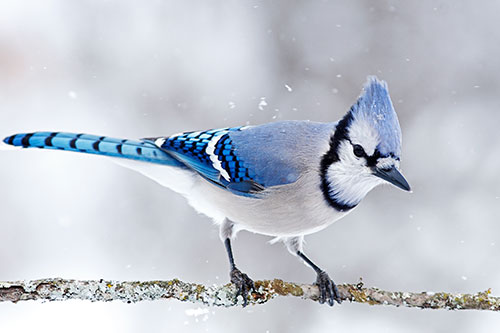bird: (47, 93, 408, 247)
